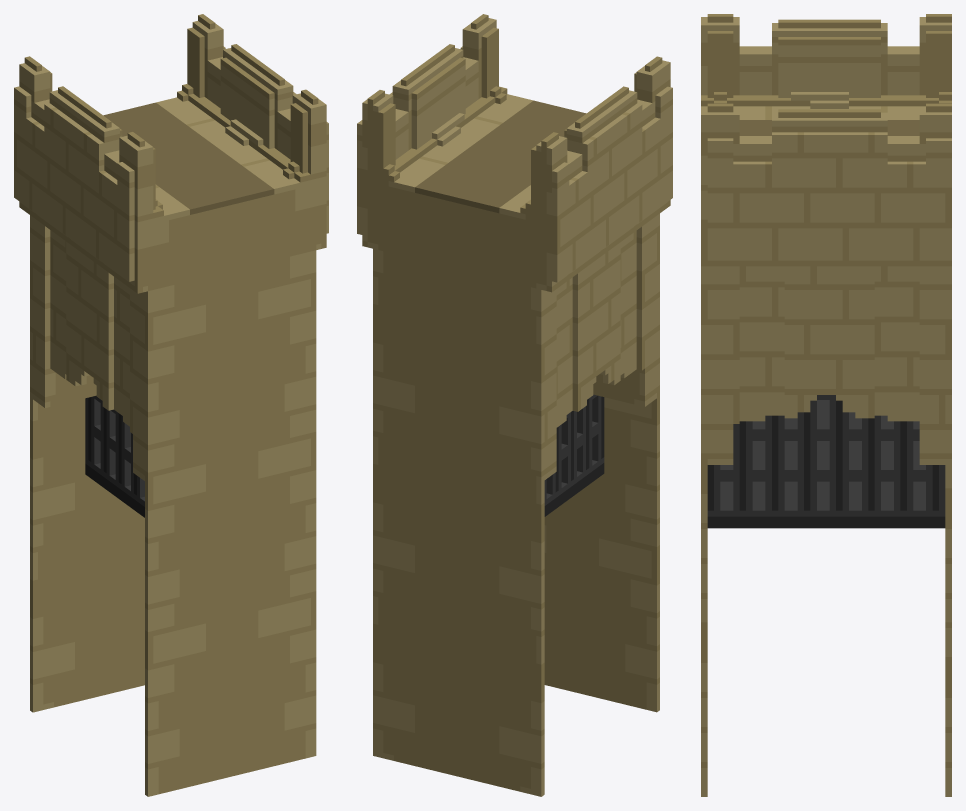
The model's file is wall_gate.fbx.
3 renders of one model, left to right at view 1: azimuth 30°, elevation 25°; view 2: azimuth 150°, elevation 25°; view 3: azimuth 270°, elevation 25°, orthographic. The views are drawn at different scales.
Parts seen in each view (by area): view 1: wall_gate; view 2: wall_gate; view 3: wall_gate.
Boxes of the visible parts, x1,y1,x2,y2 form: wall_gate: [14, 14, 328, 796]; wall_gate: [357, 14, 672, 796]; wall_gate: [701, 14, 951, 796].
Bounding box in the file's own units: 380 × 390 × 1190.
